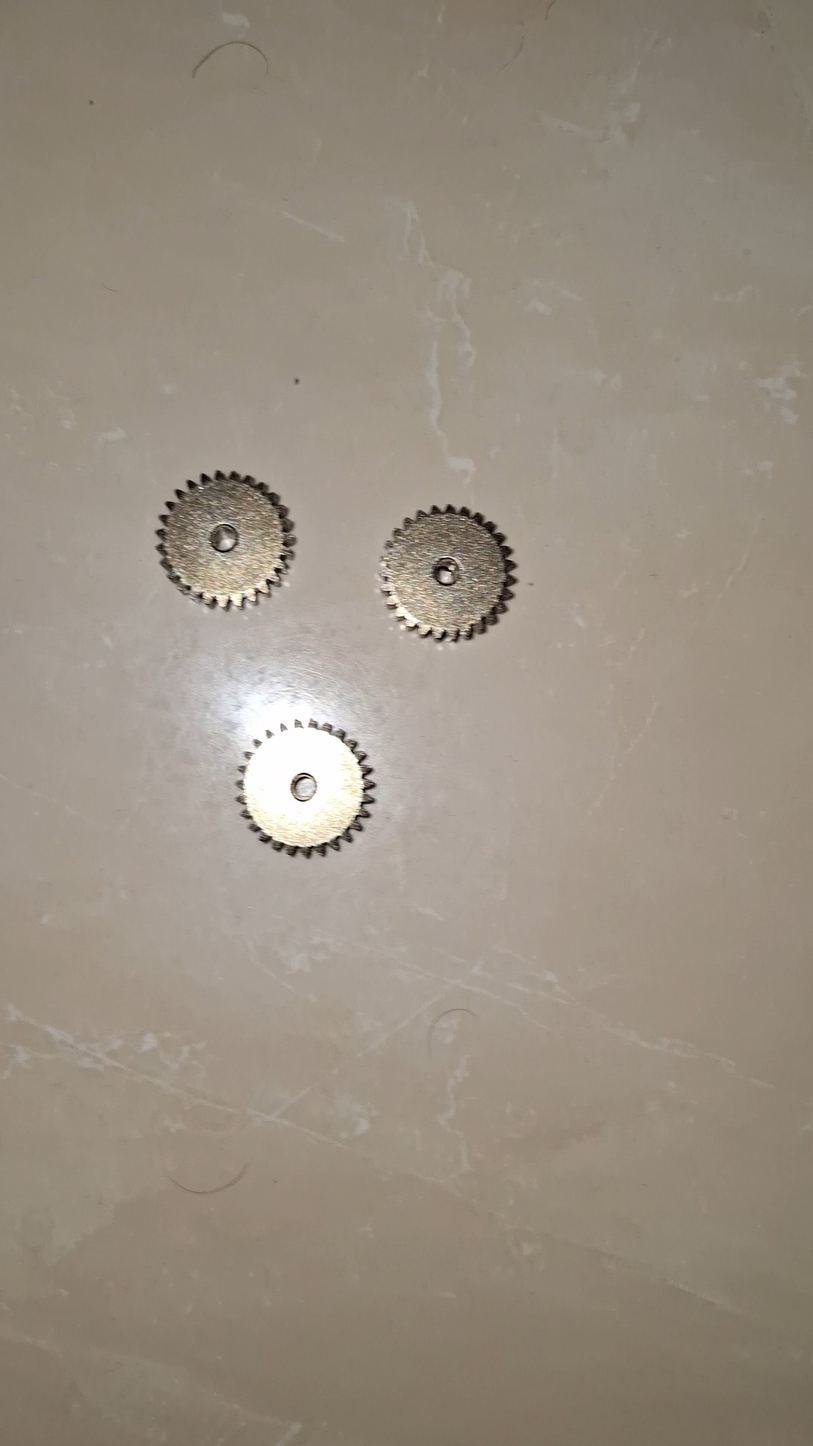spur gear: (158, 471, 293, 608), (238, 721, 374, 855), (381, 505, 515, 640)
